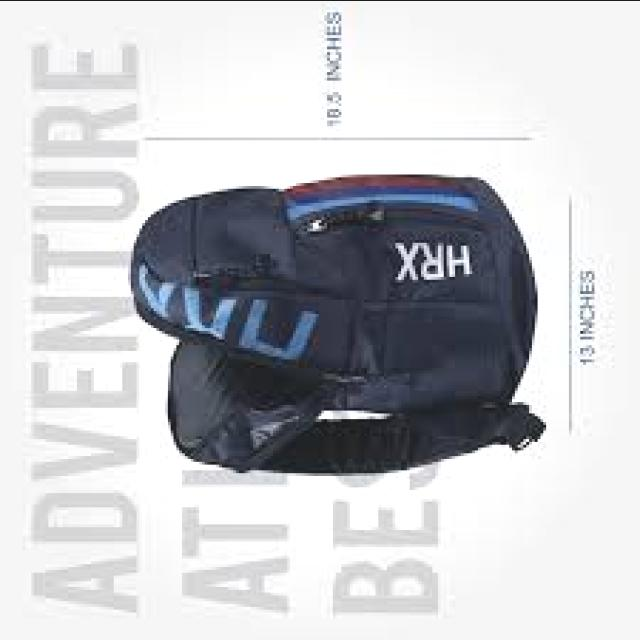backpack: (129, 175, 545, 477)
